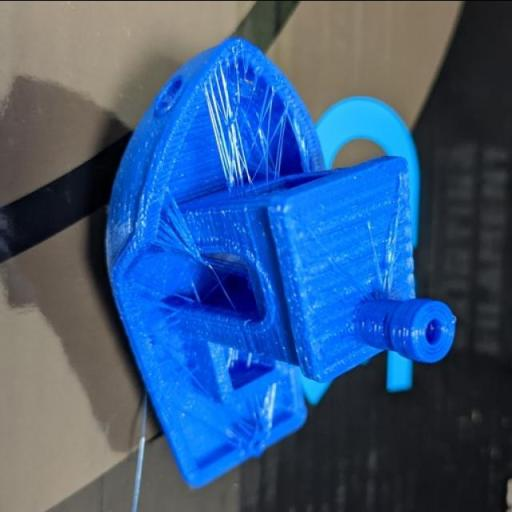stringing: (206, 77, 244, 181), (246, 98, 288, 160), (158, 206, 192, 252)
